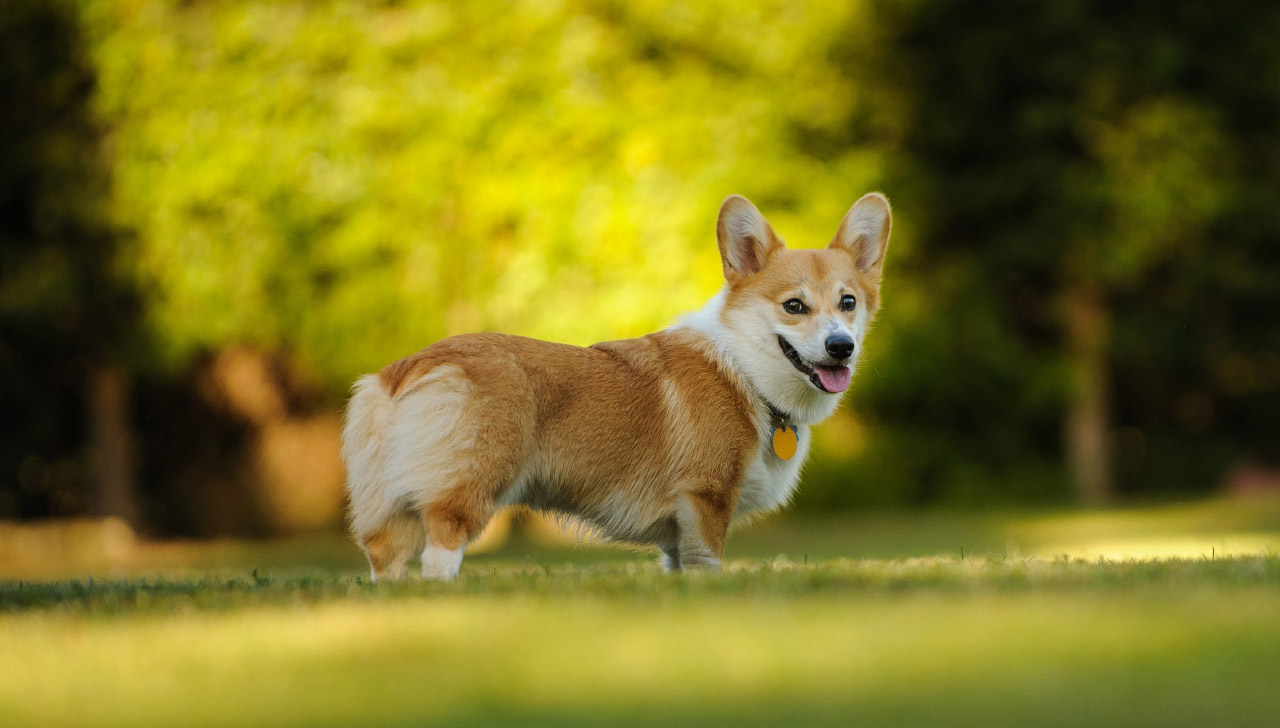corgi: (342, 186, 912, 567)
